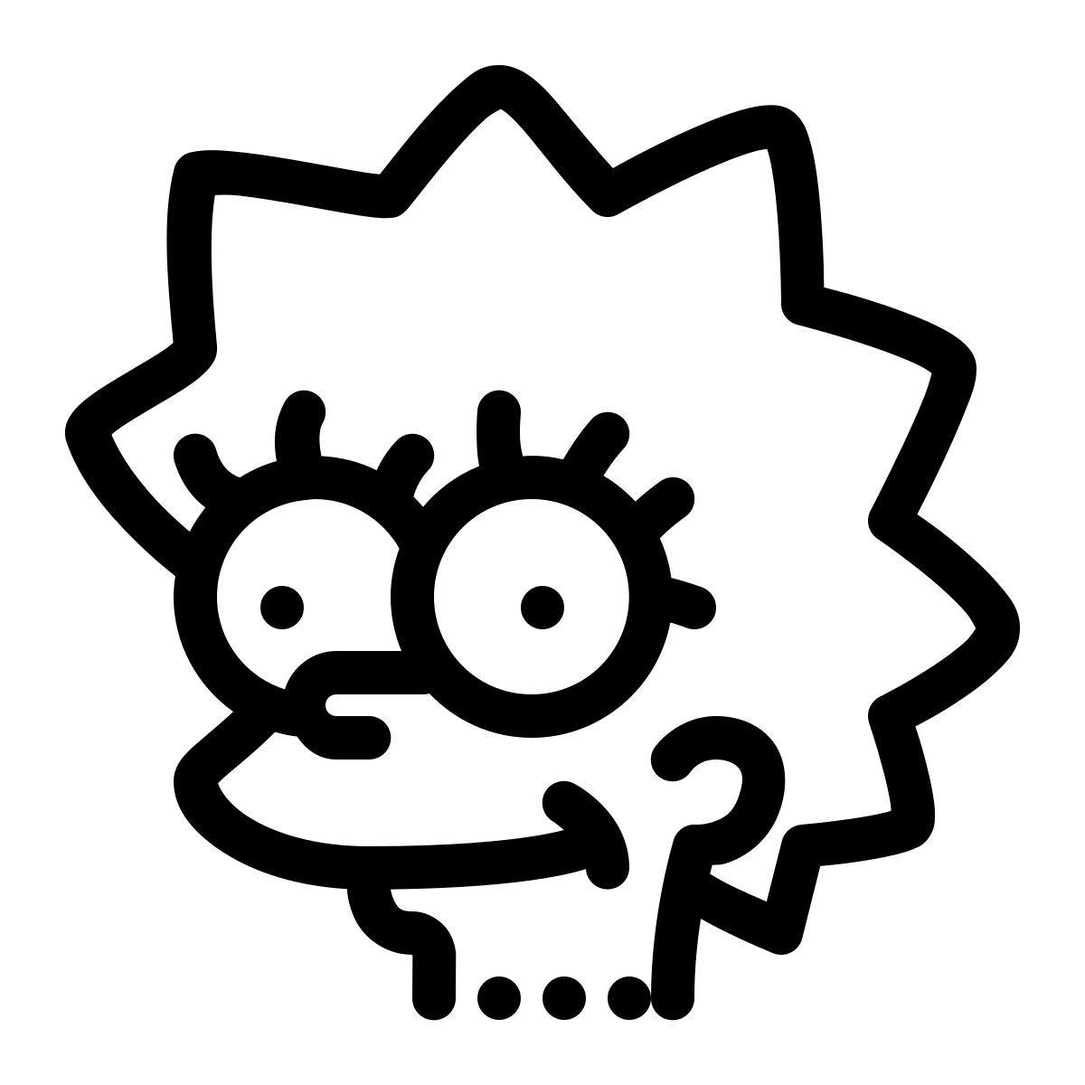Lisa: (18, 55, 1060, 1071)
